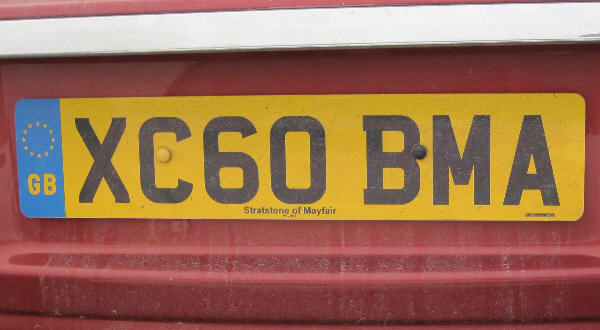license_plate: (13, 91, 587, 223)
